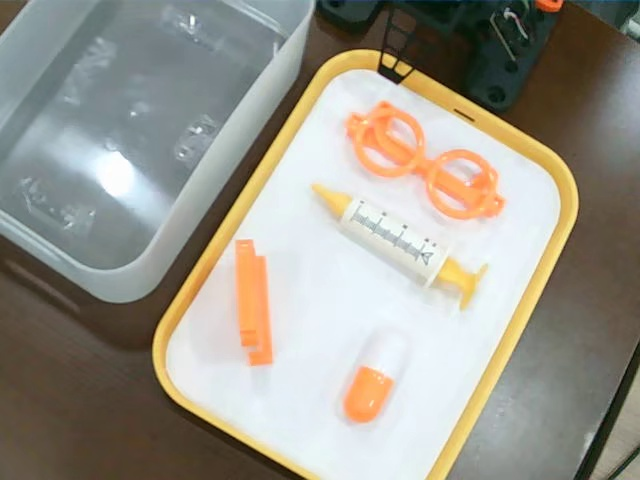pill: (342, 322, 408, 428)
syringe: (303, 180, 494, 312)
